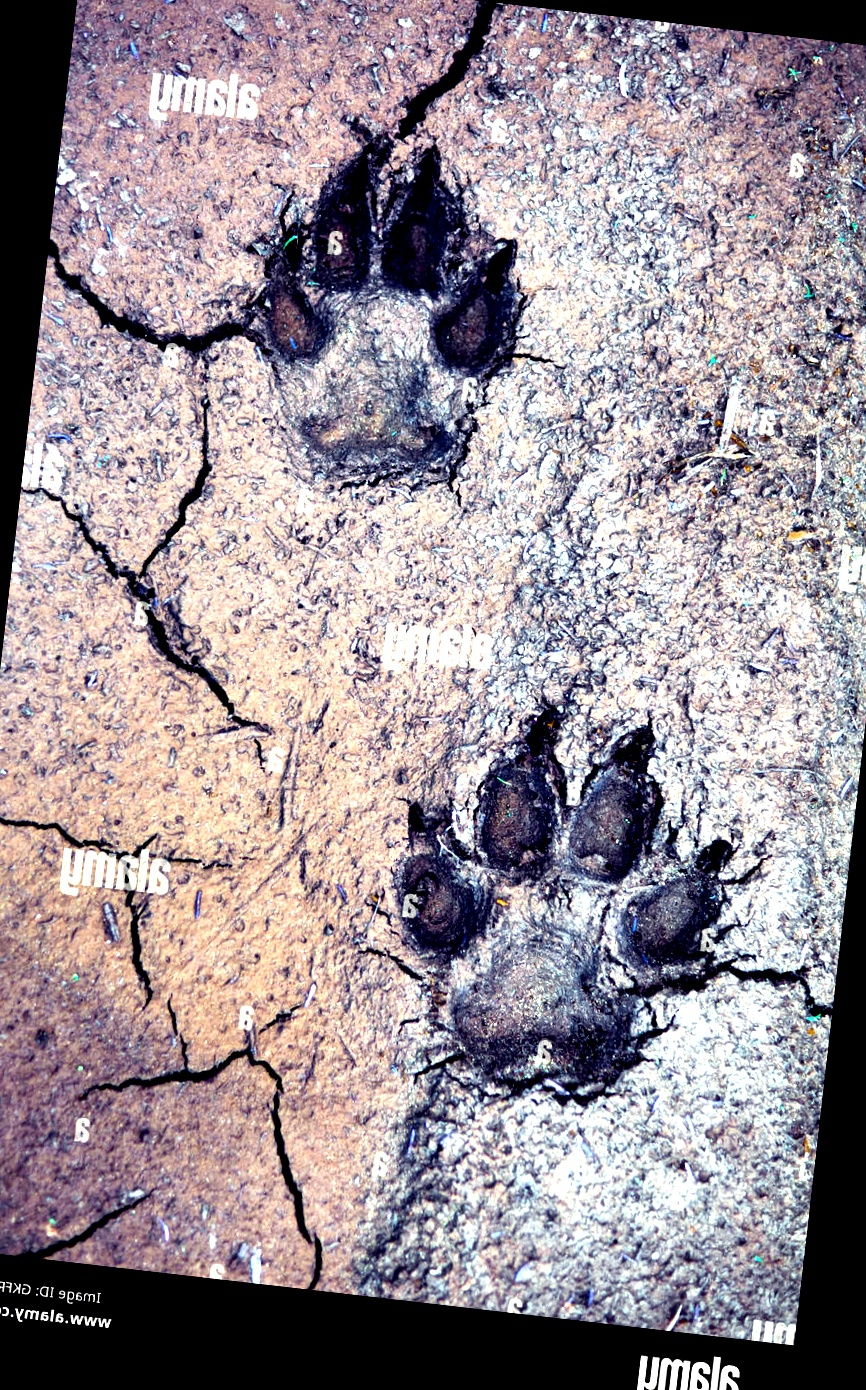loup: (46, 637, 499, 1128), (335, 111, 697, 526)
